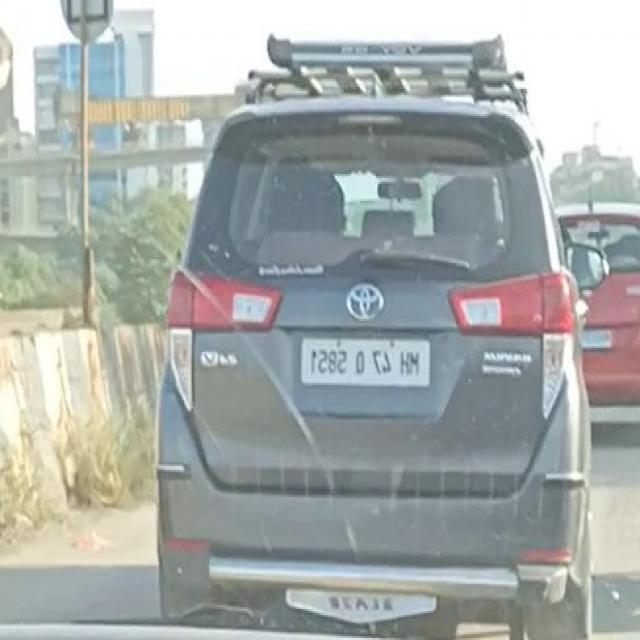license_plate: (294, 332, 434, 394)
